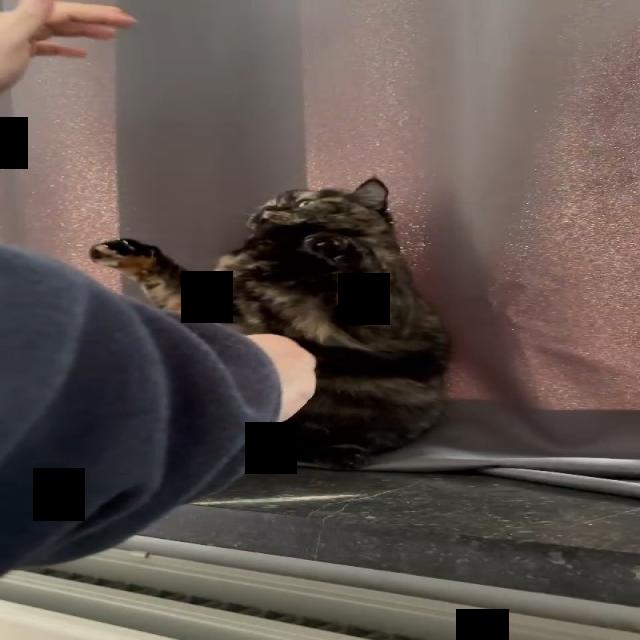authorized: (88, 176, 453, 471)
